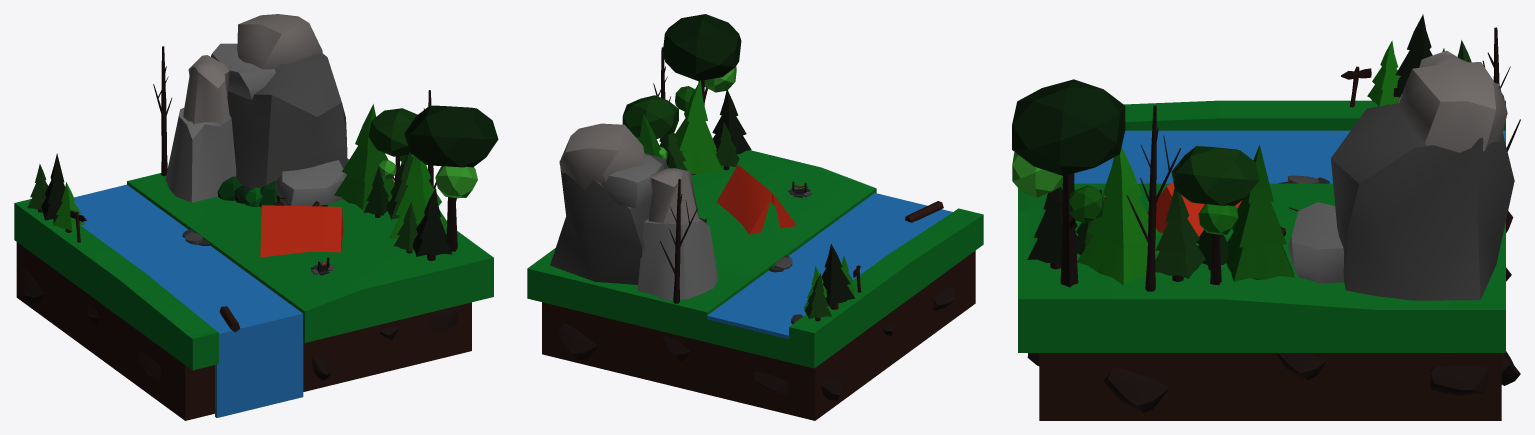
Rendered from Scena natura low poly.fbx.
3 renders of one model, left to right at view 1: azimuth 30°, elevation 25°; view 2: azimuth 150°, elevation 25°; view 3: azimuth 270°, elevation 25°, orthographic. The views are drawn at different scales.
Parts seen in each view (by area): view 1: Box001, Box005, Box006, Box002, Box004, Hedra001, Box028, Box012, Box007, Box003, Box011, Hedra004 (+11 smaller); view 2: Box001, Box006, Box005, Box002, Box004, Hedra001, Box012, Box028, Box007, Box011, Hedra004, Pyramid005 (+9 smaller); view 3: Box001, Box002, Box006, Hedra001, Box005, Box012, Hedra004, Box003, Pyramid004, Pyramid005, Pyramid016, Pyramid017 (+20 smaller).
Part boxes in pixels (left/top/right/bottom): Box001: left=14, top=159, right=493, bottom=370; Box005: left=73, top=184, right=303, bottom=417; Box006: left=16, top=242, right=471, bottom=420; Box002: left=227, top=53, right=347, bottom=188; Box004: left=165, top=108, right=236, bottom=202; Hedra001: left=404, top=105, right=498, bottom=167; Box028: left=260, top=205, right=343, bottom=257; Box012: left=237, top=14, right=322, bottom=69; Box007: left=183, top=55, right=229, bottom=124; Box003: left=275, top=160, right=346, bottom=206; Box011: left=211, top=43, right=275, bottom=99; Hedra004: left=368, top=108, right=417, bottom=156; Box001: left=527, top=150, right=983, bottom=368; Box006: left=542, top=250, right=975, bottom=420; Box005: left=707, top=193, right=952, bottom=339; Box002: left=550, top=153, right=667, bottom=284; Box004: left=637, top=217, right=718, bottom=300; Hedra001: left=663, top=14, right=741, bottom=81; Box012: left=559, top=123, right=644, bottom=190; Box028: left=717, top=165, right=796, bottom=234; Box007: left=648, top=168, right=698, bottom=223; Box011: left=600, top=154, right=664, bottom=208; Hedra004: left=622, top=95, right=678, bottom=138; Pyramid005: left=675, top=118, right=716, bottom=151; Box001: left=1018, top=100, right=1505, bottom=352; Box002: left=1331, top=103, right=1514, bottom=300; Box006: left=1039, top=353, right=1501, bottom=420; Hedra001: left=1012, top=79, right=1125, bottom=175; Box005: left=1074, top=130, right=1505, bottom=183; Box012: left=1397, top=62, right=1507, bottom=152; Hedra004: left=1171, top=146, right=1259, bottom=206; Box003: left=1288, top=202, right=1344, bottom=283; Pyramid004: left=1077, top=235, right=1159, bottom=285; Pyramid005: left=1087, top=196, right=1159, bottom=247; Pyramid016: left=1226, top=232, right=1294, bottom=281; Pyramid017: left=1232, top=197, right=1286, bottom=247.
Bounding box in the file's own units: 5373 × 3780 × 5335.
